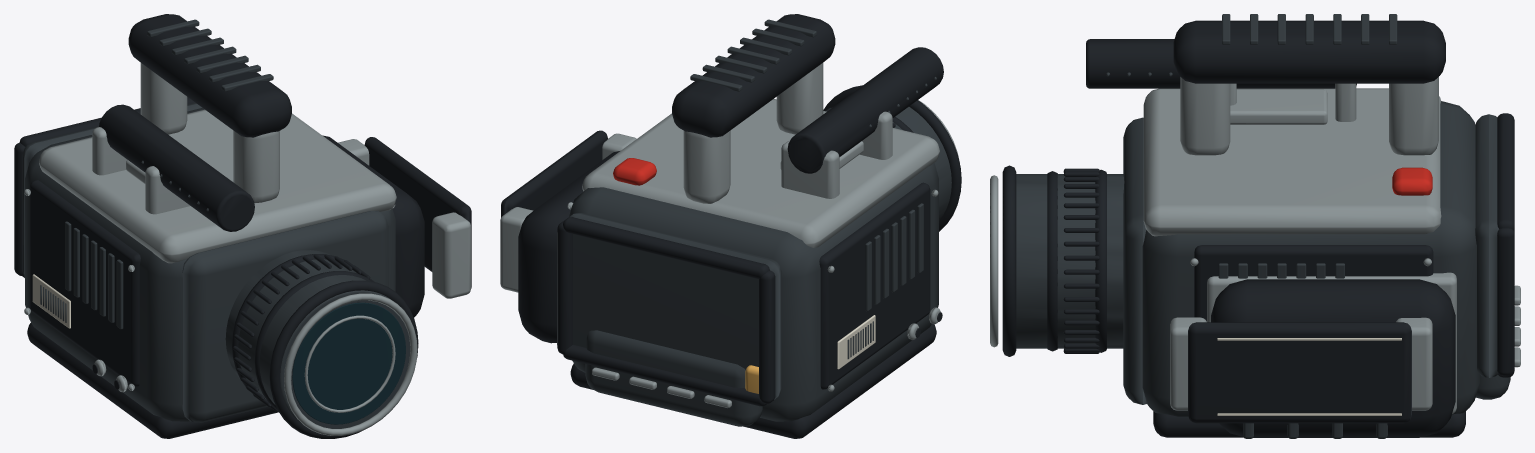
Rendered from EQP_MainCam_Detailed.fbx.
3 views of the same model, side by side, from view 1: azimuth 30°, elevation 25°; view 2: azimuth 150°, elevation 25°; view 3: azimuth 270°, elevation 25° (orthographic). The views are drawn at different scales.
Parts seen in each view (by area): view 1: EQP_MainCam_Detailed; view 2: EQP_MainCam_Detailed; view 3: EQP_MainCam_Detailed.
Boxes of the visible parts, box(x1,y1,x2,y2) form: EQP_MainCam_Detailed: box(14, 14, 471, 438); EQP_MainCam_Detailed: box(500, 14, 961, 438); EQP_MainCam_Detailed: box(990, 14, 1520, 438).
Bounding box in the file's own units: 0.3285 × 0.2785 × 0.382.
